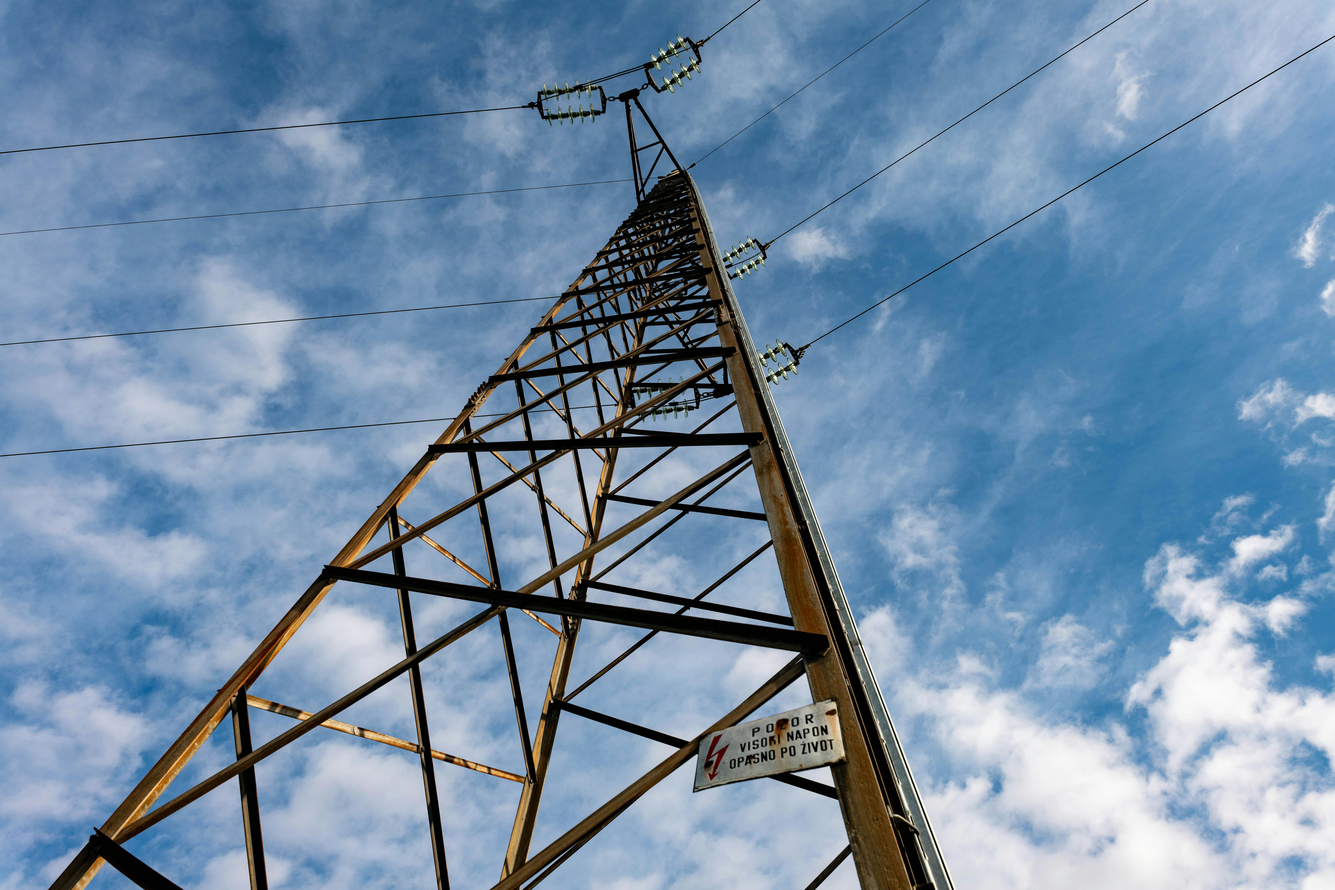insulator: (530, 81, 611, 125), (647, 29, 692, 93), (753, 334, 801, 390), (719, 230, 762, 283)
